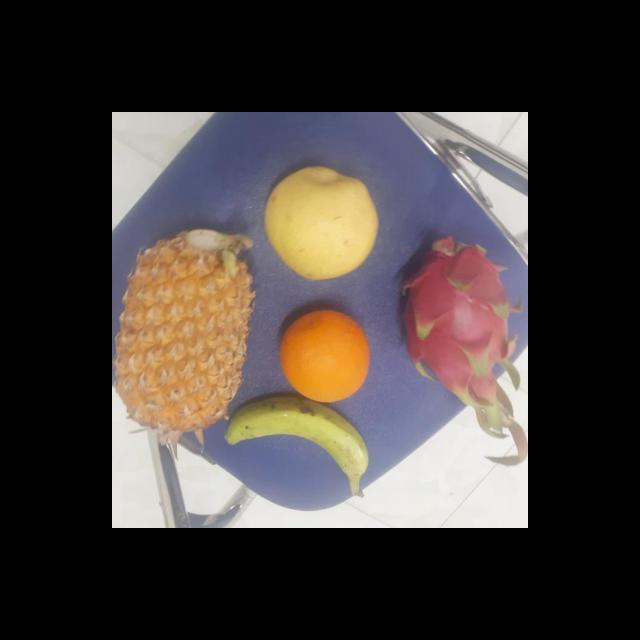banana: (220, 395, 366, 506)
orange: (274, 310, 372, 401)
pear: (256, 166, 376, 280)
pineapple: (112, 228, 255, 426)
pitaya: (390, 235, 520, 404)
